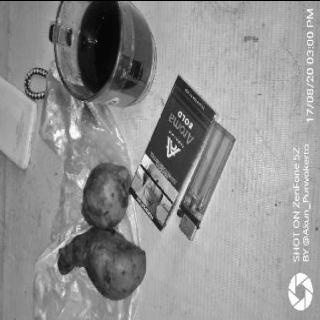objects: (130, 74, 216, 230)
